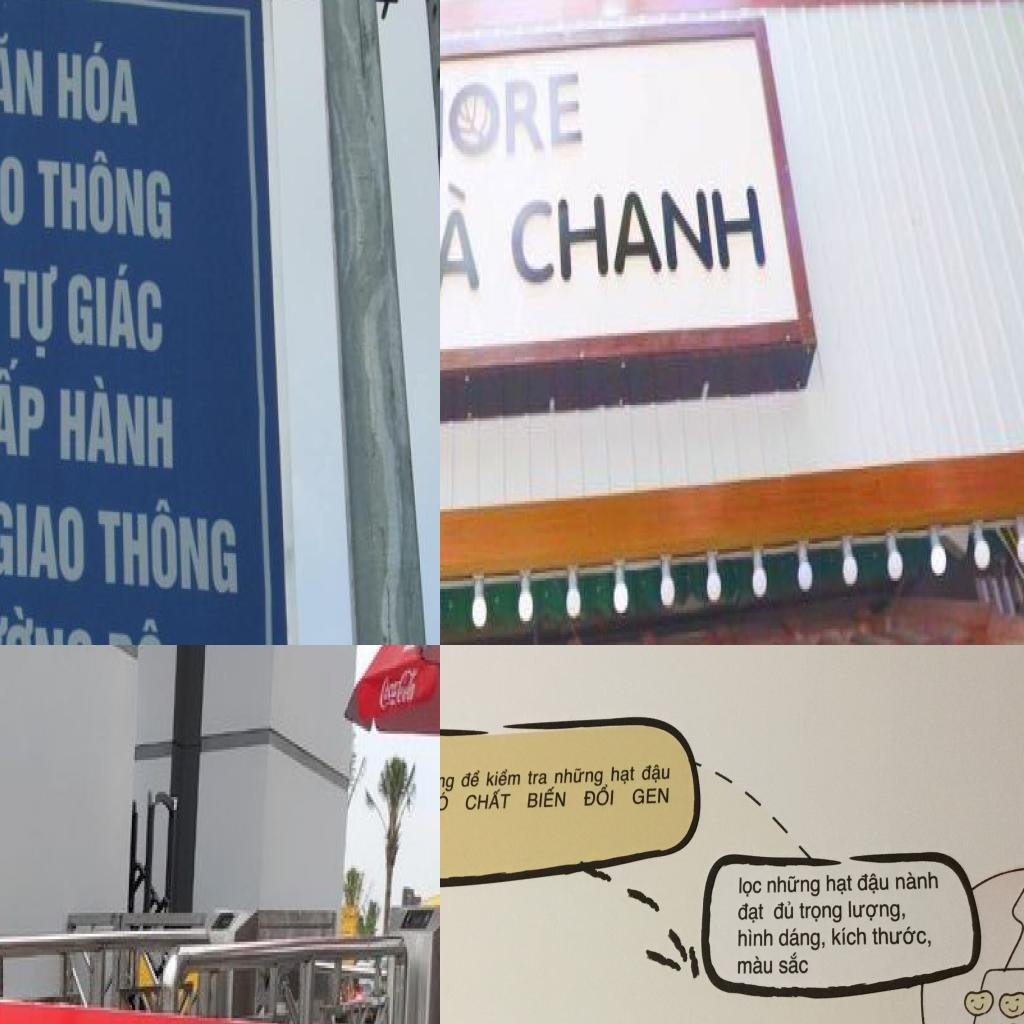text: (92, 488, 248, 608), (440, 66, 588, 175), (35, 145, 179, 253), (56, 372, 180, 480), (66, 254, 170, 358), (0, 485, 91, 596), (54, 38, 145, 136), (440, 175, 488, 314), (3, 251, 63, 360), (0, 353, 51, 471), (0, 12, 50, 123), (0, 602, 103, 645), (0, 133, 29, 223), (380, 668, 426, 715), (844, 897, 908, 923), (766, 872, 822, 898), (870, 922, 928, 946), (462, 788, 512, 812), (893, 869, 939, 893), (554, 765, 604, 787), (776, 926, 821, 950), (798, 900, 842, 924), (524, 786, 567, 810), (855, 869, 891, 896), (827, 926, 868, 948), (736, 928, 774, 950), (629, 786, 671, 805), (581, 784, 614, 808), (738, 953, 772, 976), (776, 952, 808, 976), (735, 874, 764, 900), (823, 873, 854, 896), (640, 763, 671, 785), (736, 902, 764, 926), (484, 769, 520, 787), (609, 763, 636, 785), (771, 899, 796, 921), (459, 769, 481, 789), (525, 769, 548, 787), (440, 773, 455, 792), (440, 791, 451, 814)
